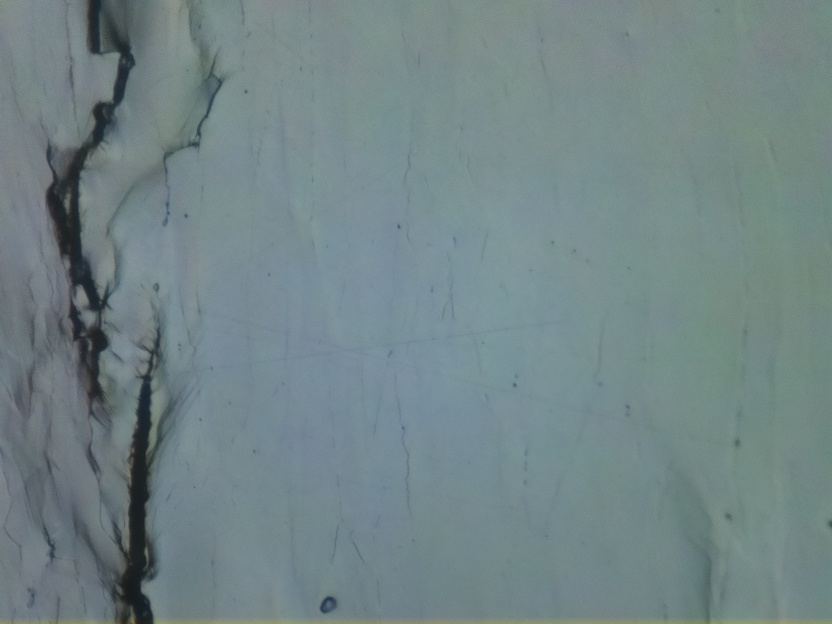crack: (38, 0, 131, 383), (114, 321, 175, 624), (160, 50, 224, 190)
